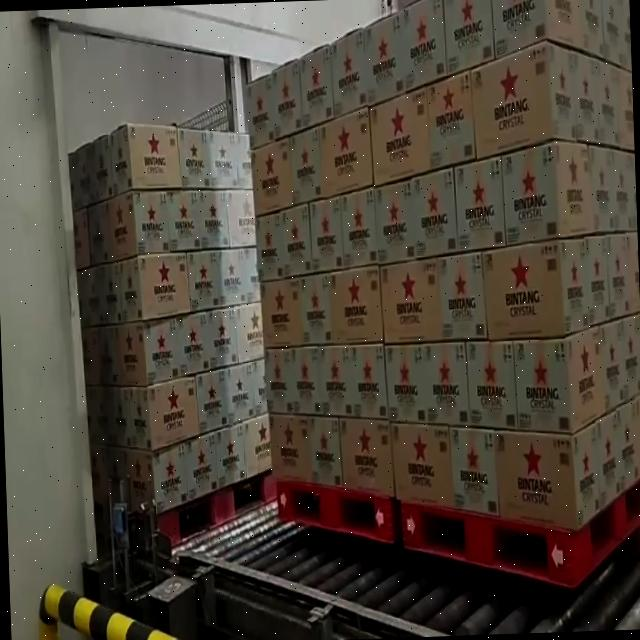pallet: (375, 0, 640, 608), (57, 112, 280, 557), (240, 16, 404, 553)
